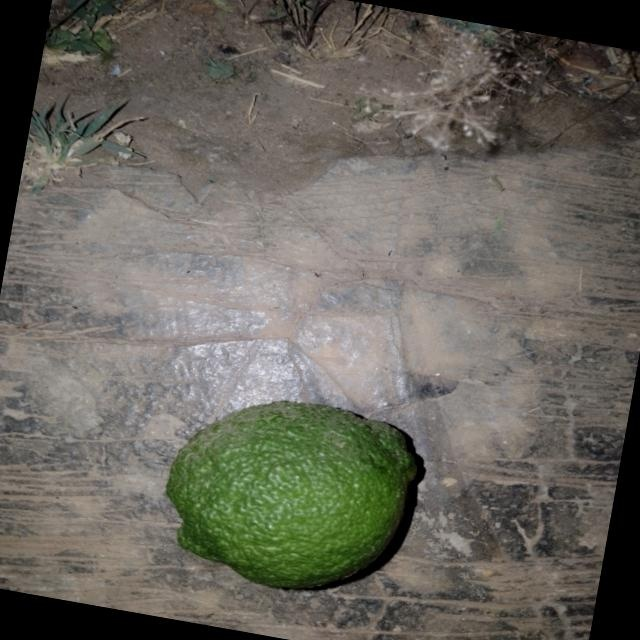agrume: (110, 358, 474, 622)
